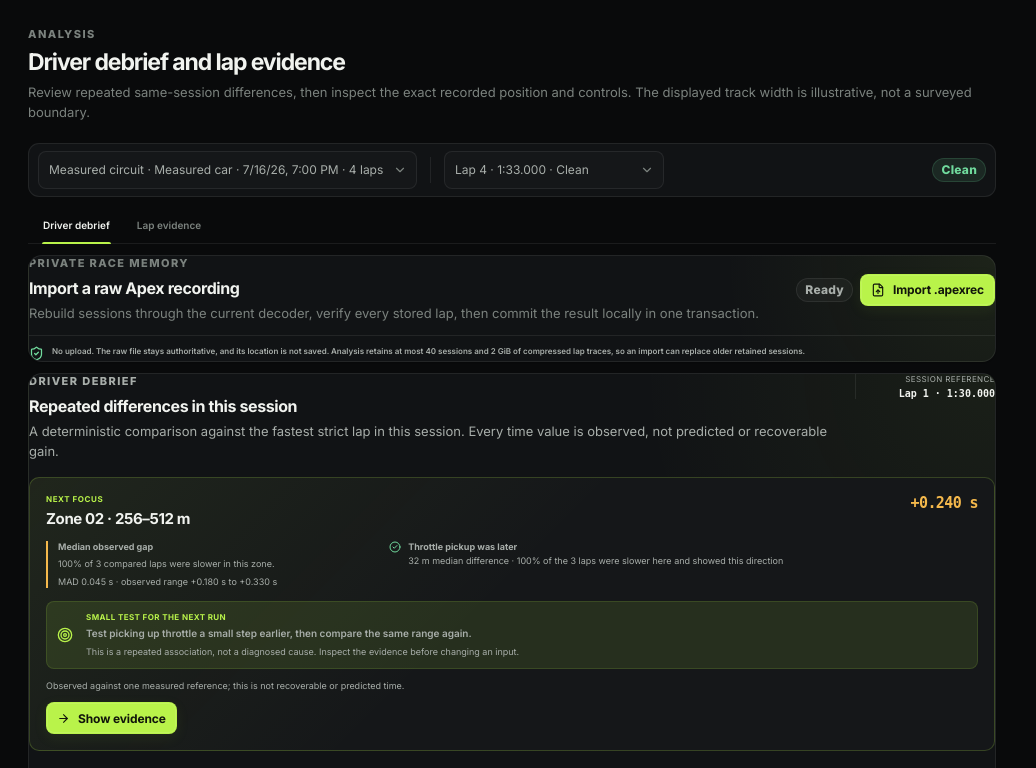
it: deterministic Driver debrief UI › does not substitute another reference when the same-session reference payload is missing
Step 1. Click the button "Show evidence" → (111, 718), box x1=46 y1=702 x2=177 y2=734
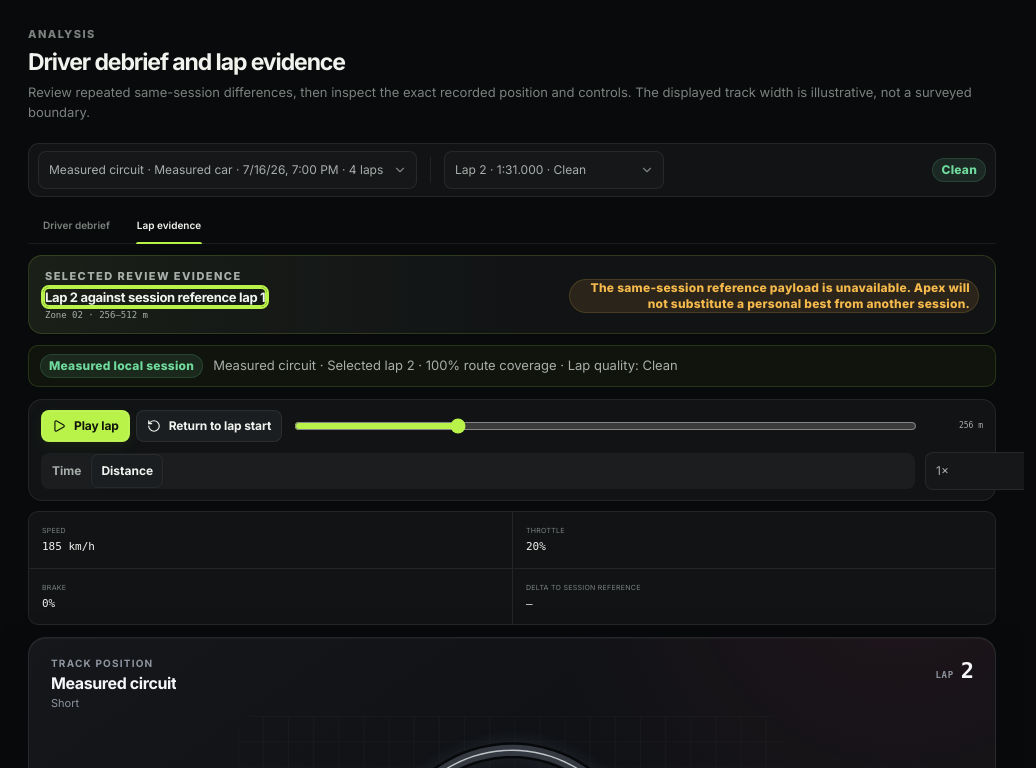
Check: the text "The same-session reference payload is unavailable." is shown, box x1=591 y1=280 x2=970 y2=311
Check: the text "will not substitute a personal best from another session" is shown, box x1=591 y1=280 x2=970 y2=311
Check: the text "—" is shown, box x1=526 y1=597 x2=533 y2=610
